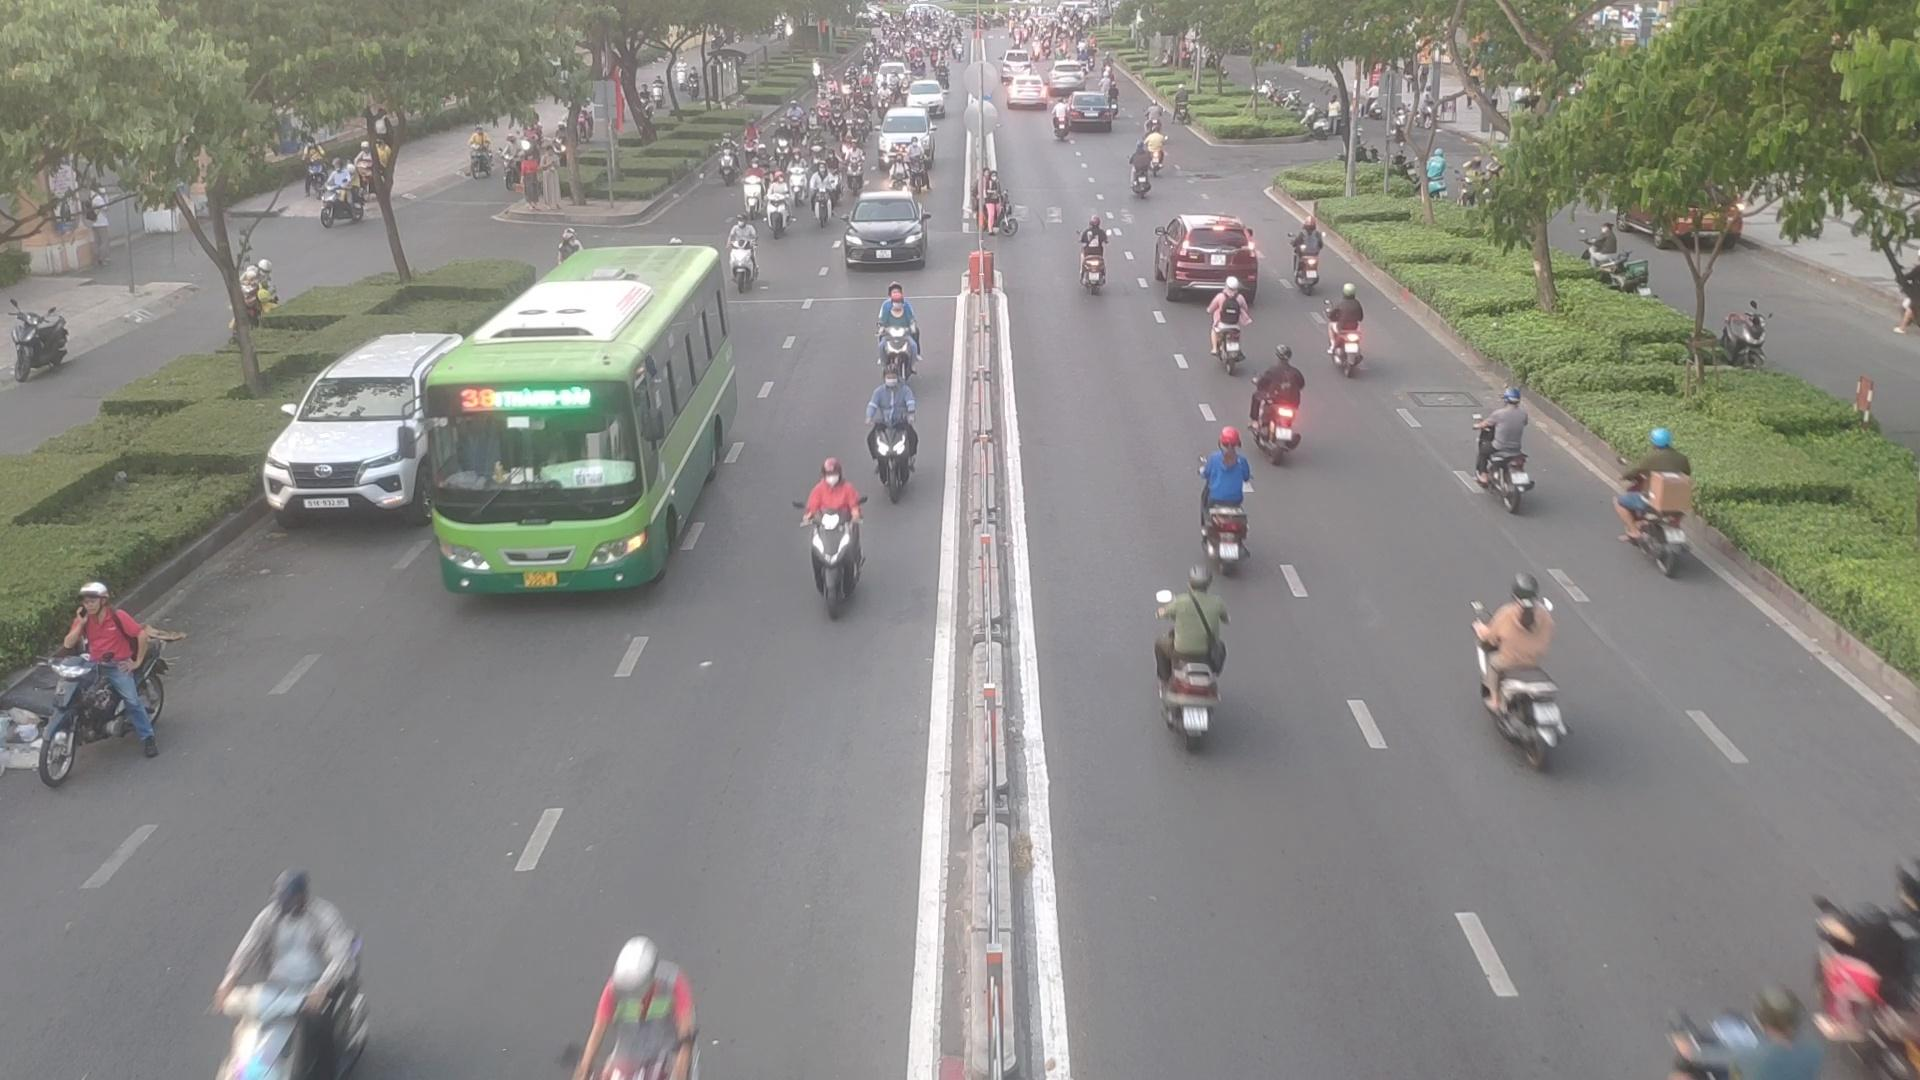bus: (430, 251, 738, 595)
car: (262, 332, 483, 526), (1156, 211, 1261, 297), (836, 193, 928, 272)
motorbike: (7, 582, 171, 785), (200, 876, 367, 1076), (1811, 832, 1920, 1077), (1466, 585, 1576, 770), (559, 948, 705, 1080), (1135, 589, 1226, 746), (1614, 429, 1708, 567), (796, 471, 880, 613), (1465, 388, 1544, 497), (858, 373, 924, 491), (1251, 351, 1320, 460), (868, 289, 924, 377), (1323, 287, 1379, 375), (1204, 276, 1250, 371), (1073, 216, 1116, 290), (756, 186, 793, 237), (1126, 146, 1160, 196)
